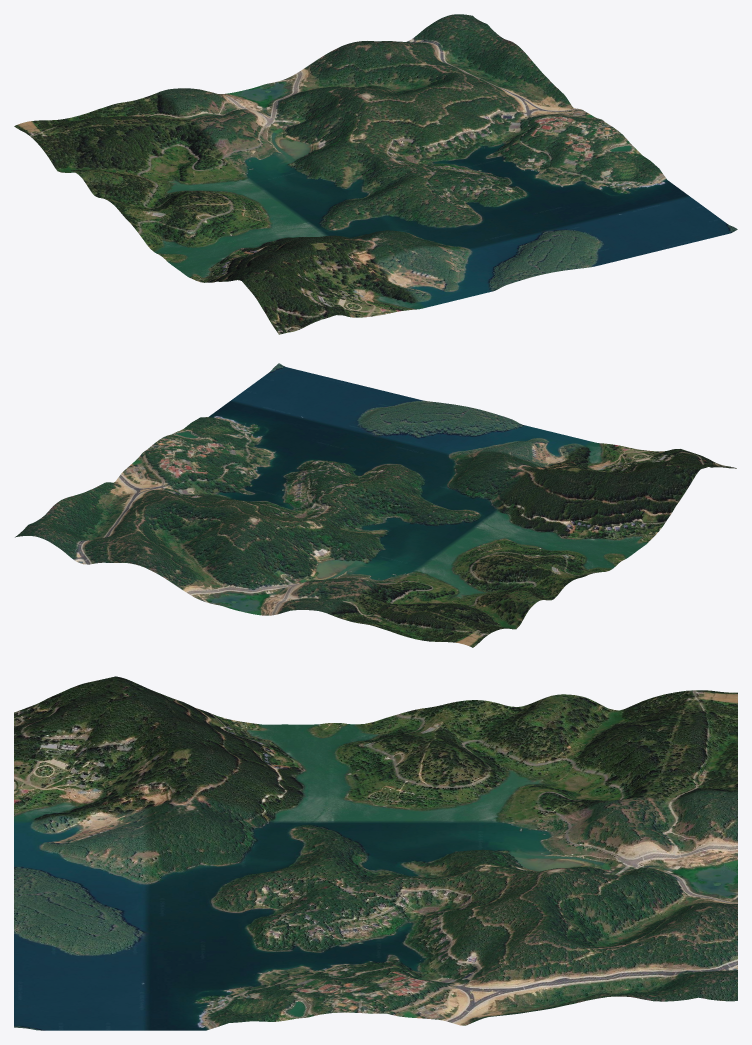
Rendered from terrain_real_T_W01_S02.glb.
3 renders of one model, top to bottom at view 1: azimuth 30°, elevation 25°; view 2: azimuth 150°, elevation 25°; view 3: azimuth 270°, elevation 25°, orthographic. The views are drawn at different scales.
Parts seen in each view (by area): view 1: TerrainReal_T_W01_S02; view 2: TerrainReal_T_W01_S02; view 3: TerrainReal_T_W01_S02.
Boxes of the visible parts, bbox=[...] form: TerrainReal_T_W01_S02: bbox=[14, 14, 737, 334]; TerrainReal_T_W01_S02: bbox=[15, 363, 736, 647]; TerrainReal_T_W01_S02: bbox=[14, 676, 737, 1030].
Size of the model in its own units: 2000 by 151 by 2000.
1 material, 1 textured.
